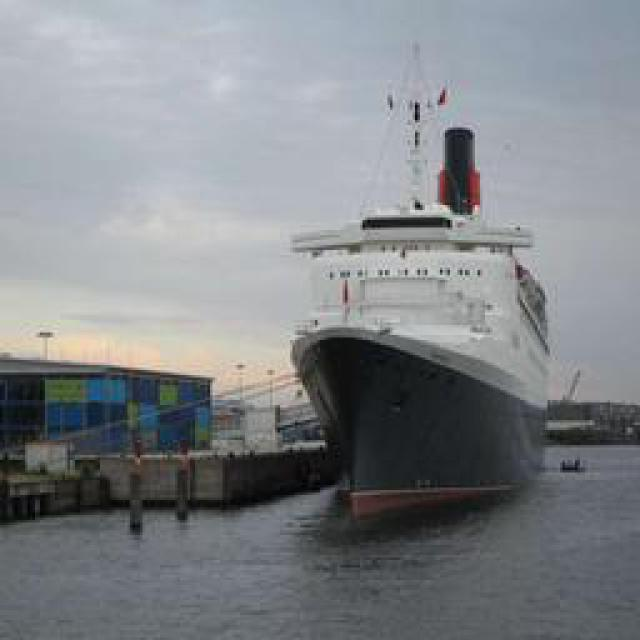Ship: (287, 30, 560, 528)
